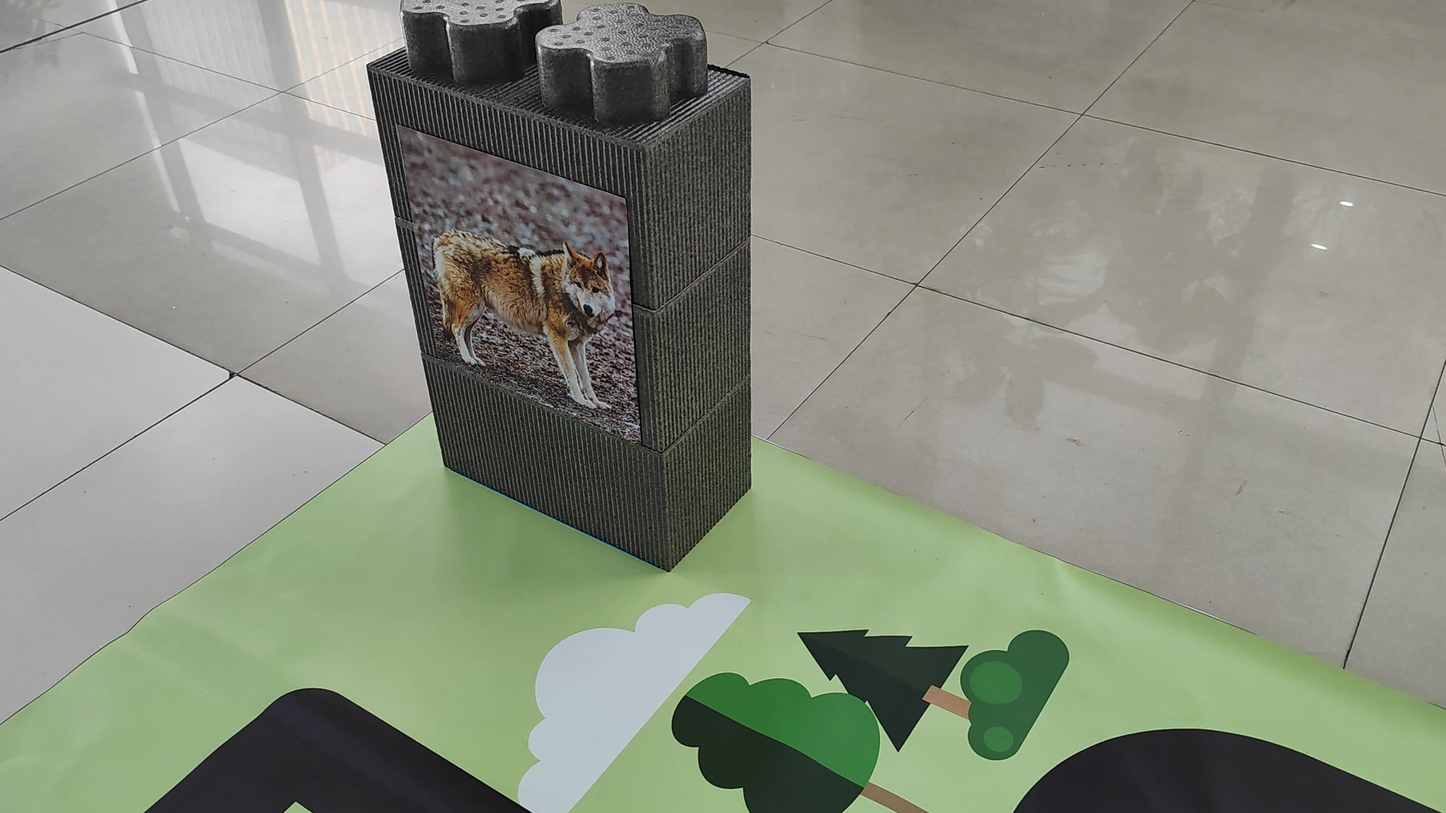wolf: (430, 182, 646, 391)
